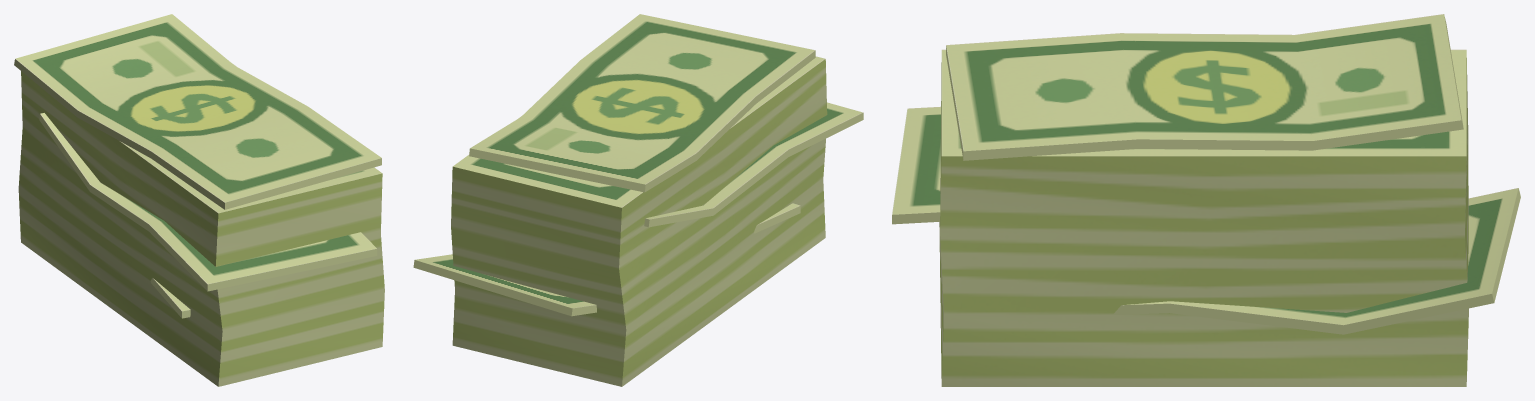
Rendered from dinheiro_pilha_pacote.glb.
The picture shows the model from 3 angles, left to right: view 1: azimuth 30°, elevation 25°; view 2: azimuth 150°, elevation 25°; view 3: azimuth 270°, elevation 25°; orthographic projection. The views are drawn at different scales.
Parts seen in each view (by area): view 1: dinheiro_pilha_pacote; view 2: dinheiro_pilha_pacote; view 3: dinheiro_pilha_pacote.
Boxes of the visible parts, bbox=[...] form: dinheiro_pilha_pacote: bbox=[14, 14, 384, 386]; dinheiro_pilha_pacote: bbox=[413, 14, 863, 386]; dinheiro_pilha_pacote: bbox=[892, 14, 1520, 386].
Bounding box in the file's own units: 0.0992 × 0.0851 × 0.1887.
Materials: 1 (1 with a texture image).
